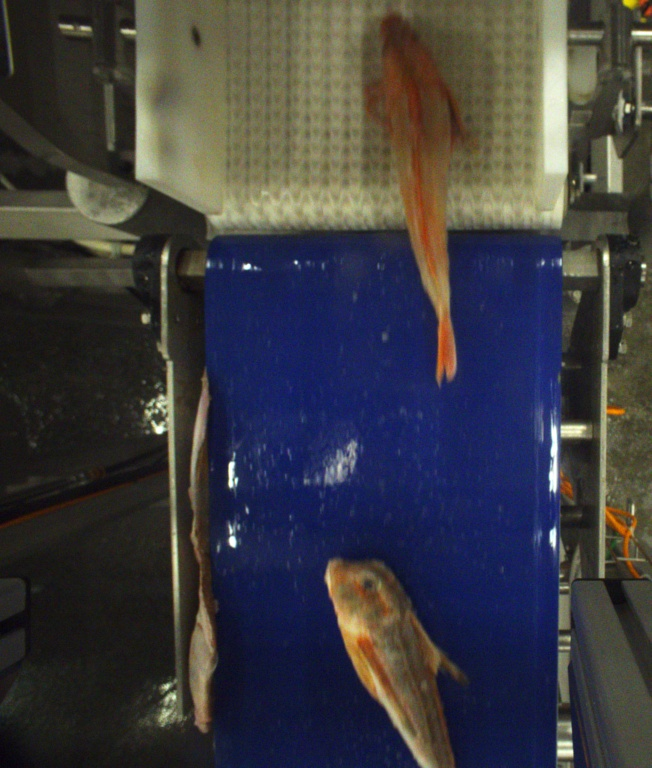GUU: (372, 10, 461, 388)
